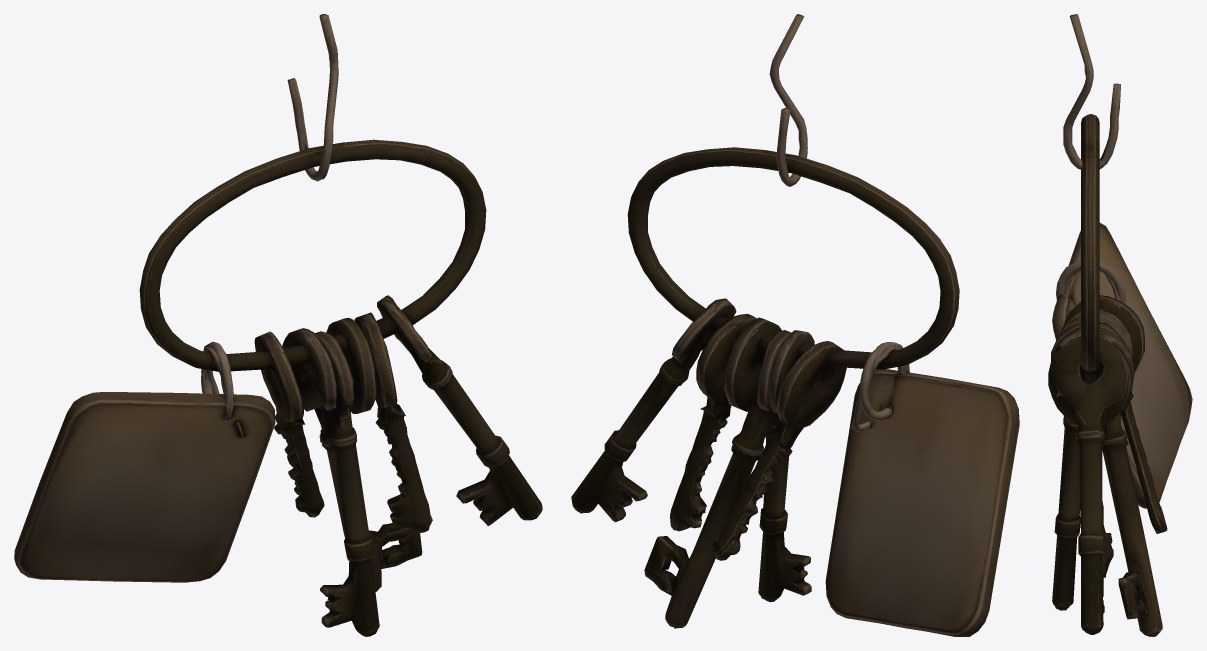
The model's file is Key Loop.fbx.
3 views of the same model, side by side, from view 1: azimuth 30°, elevation 25°; view 2: azimuth 150°, elevation 25°; view 3: azimuth 270°, elevation 25° (orthographic). The views are drawn at different scales.
Parts seen in each view (by area): view 1: tripo_node_a1c9eb2c-78de-49a3-95ee-5516207b603f; view 2: tripo_node_a1c9eb2c-78de-49a3-95ee-5516207b603f; view 3: tripo_node_a1c9eb2c-78de-49a3-95ee-5516207b603f.
Part boxes in pixels (left/top/right/bottom): tripo_node_a1c9eb2c-78de-49a3-95ee-5516207b603f: left=14, top=14, right=542, bottom=636; tripo_node_a1c9eb2c-78de-49a3-95ee-5516207b603f: left=571, top=14, right=1019, bottom=636; tripo_node_a1c9eb2c-78de-49a3-95ee-5516207b603f: left=1048, top=14, right=1192, bottom=636.
Size of the model in its own units: 79.88 by 99.8 by 22.46.
Materials: 1 (1 with a texture image).
